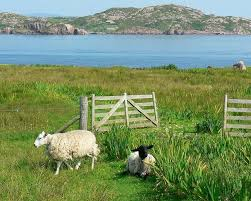sheep: (35, 125, 101, 176), (115, 143, 164, 180)
